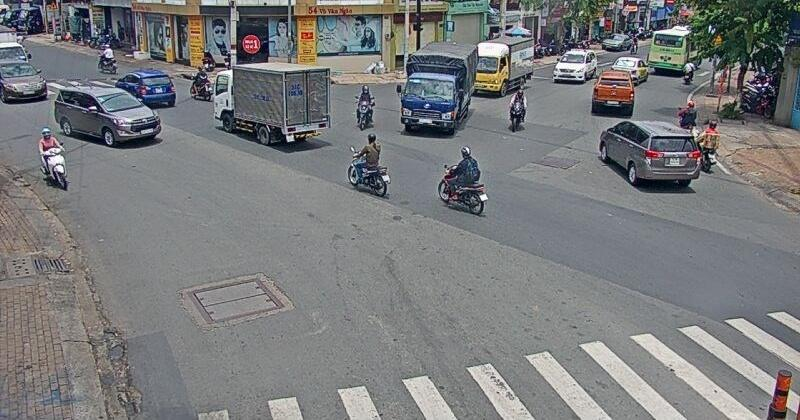xe hoi: (596, 116, 703, 191), (51, 89, 154, 145), (114, 70, 175, 107), (592, 71, 634, 114)
xe may: (436, 145, 487, 215), (346, 133, 388, 198), (35, 126, 69, 189), (353, 85, 376, 130), (507, 86, 527, 131)
xe tai: (211, 62, 335, 145), (398, 38, 478, 135), (470, 35, 535, 95)
